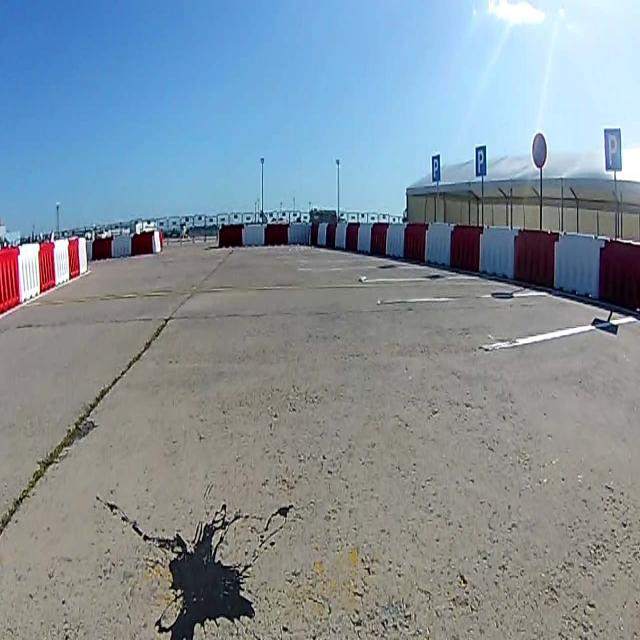park: (604, 127, 622, 172), (475, 146, 487, 177), (431, 156, 441, 182)
parkyasak: (532, 131, 547, 169)
